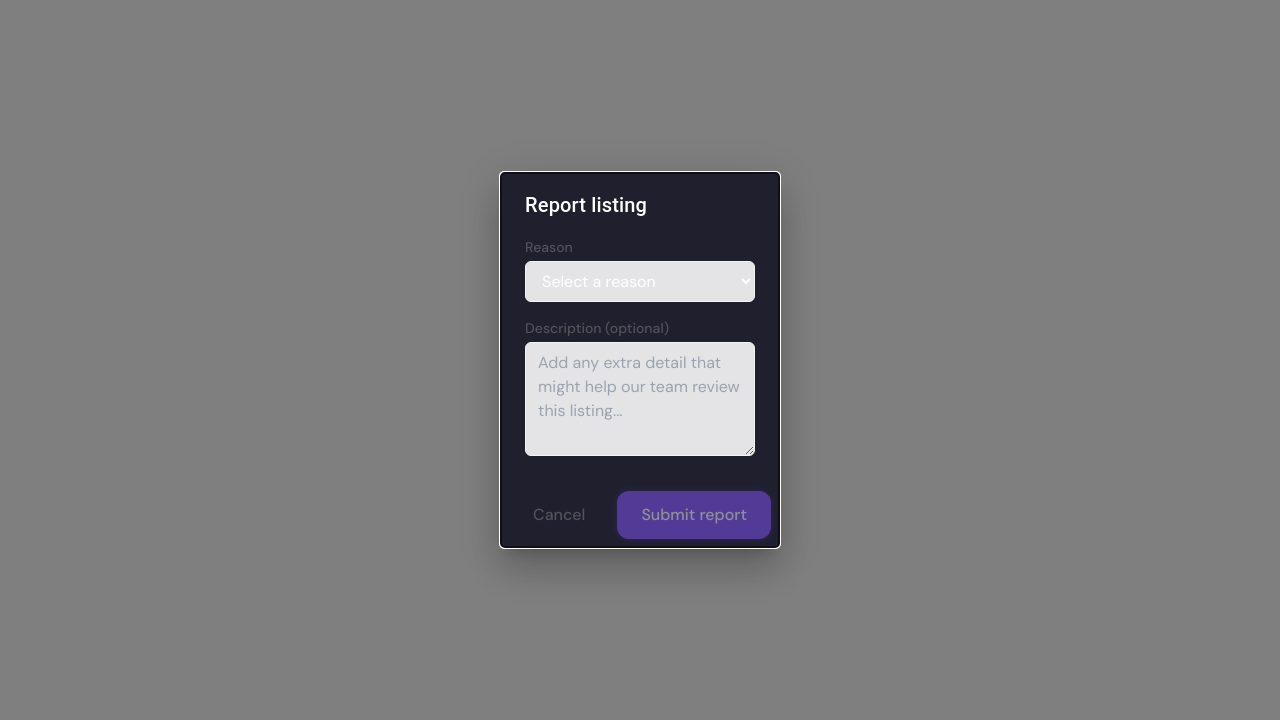
Test: ReportListingDialog › shows the generic fallback message for a different failure
This screenshot has width=1280, height=720.
Select "Spam" in the dropdown labelled "Reason" at (640,282), box top-left (525, 261), bottom-right (755, 302)
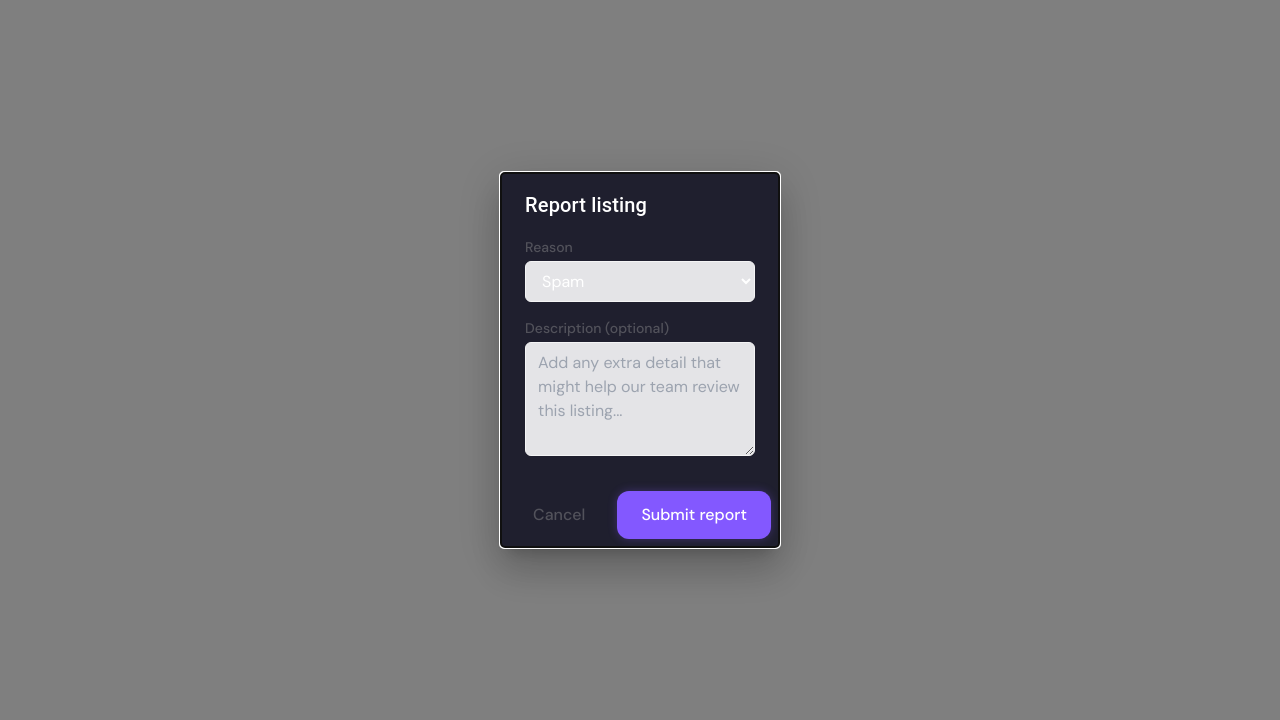
Click the button "Submit report" at (694,515), box top-left (617, 491), bottom-right (771, 539)
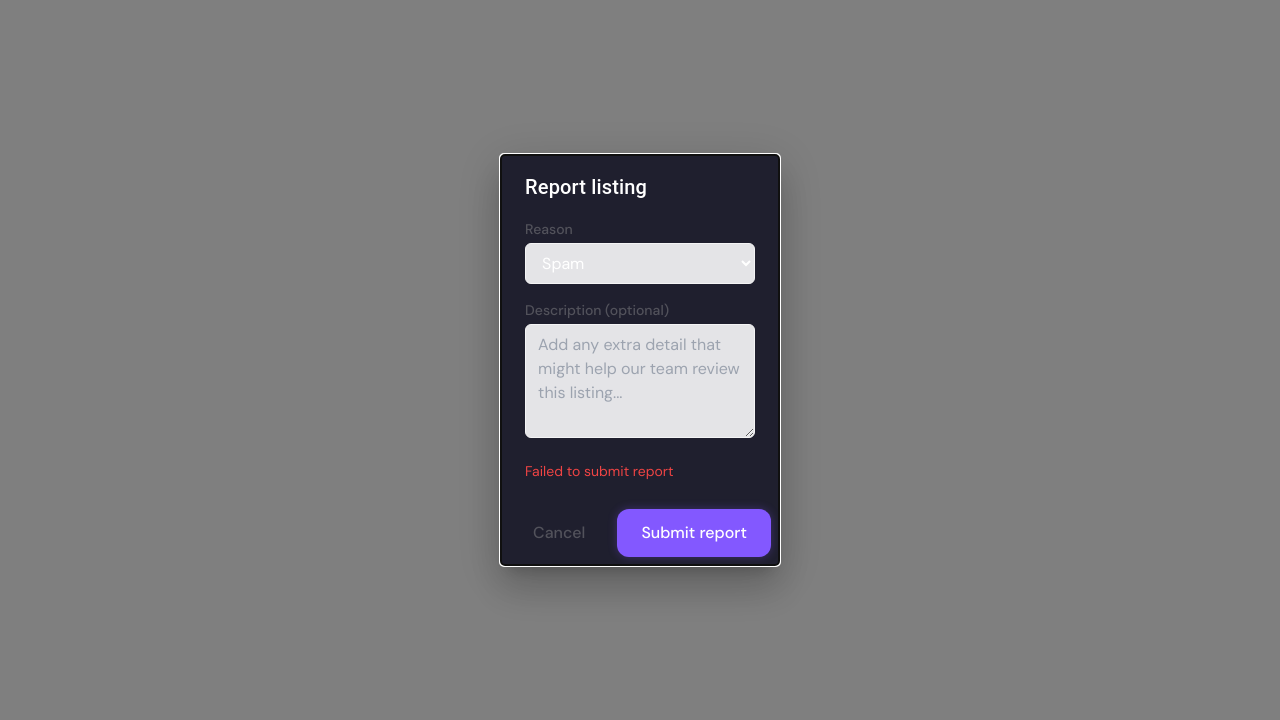
Expected: the text "Failed to submit report" is shown, top-left (525, 462), bottom-right (673, 480)
